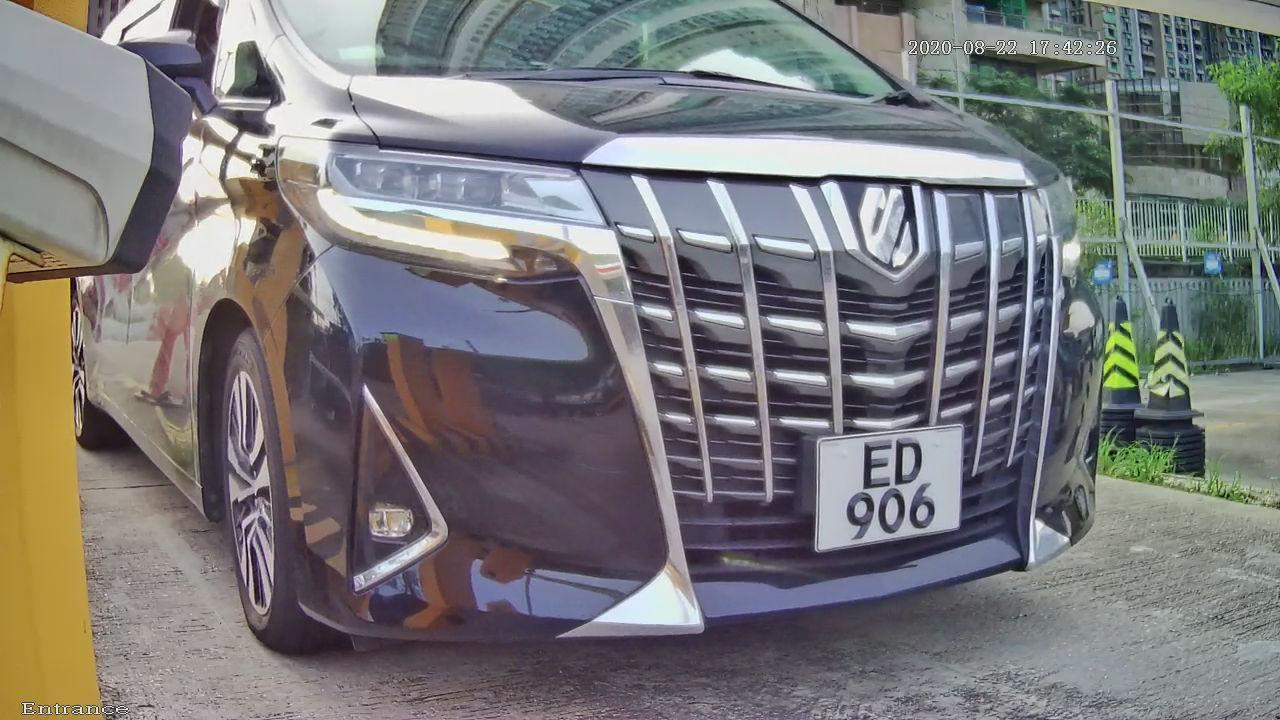Car: (115, 1, 1109, 704)
License Plate: (795, 373, 978, 569)
